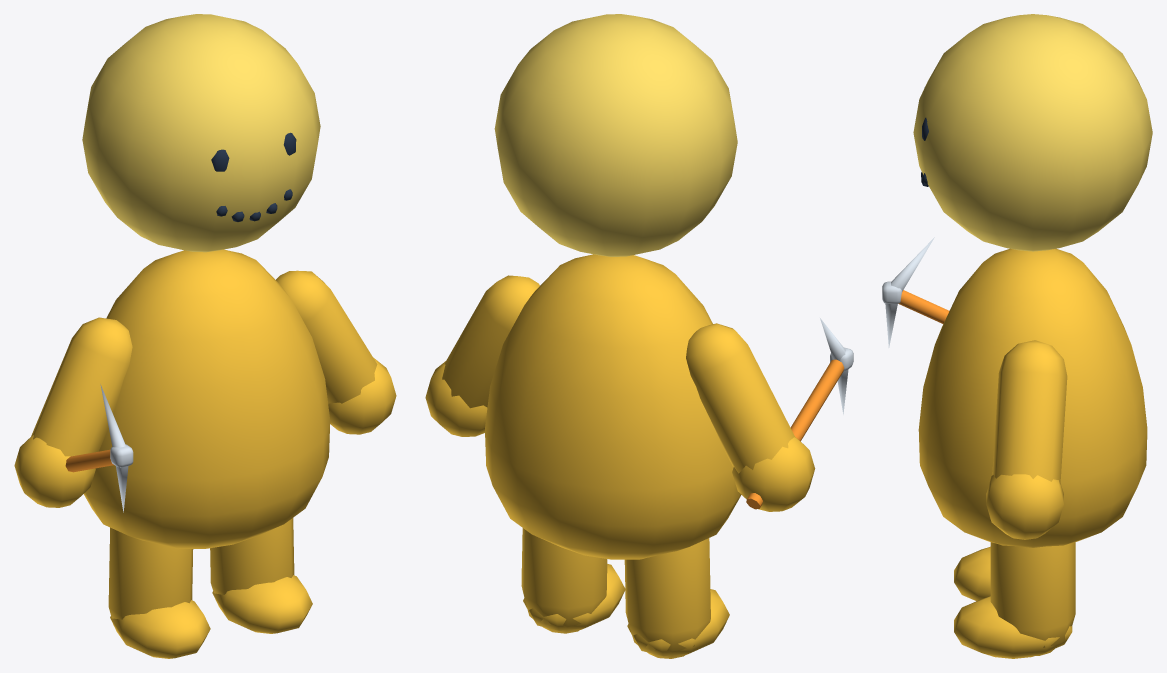
File: SmileyScrapper.fbx
3 renders of one model, left to right at view 1: azimuth 30°, elevation 25°; view 2: azimuth 150°, elevation 25°; view 3: azimuth 270°, elevation 25°, orthographic. The views are drawn at different scales.
Visible parts, largest first — view 1: Torso, Head, ArmR, LegR, ArmL, LegL; view 2: Torso, Head, ArmR, LegR, ArmL, LegL; view 3: Head, Torso, ArmL, LegL, ArmR, LegR.
Boxes of the visible parts, x1=… form: Torso: x1=84, y1=249, x2=330, y2=548; Head: x1=82, y1=14, x2=320, y2=252; ArmR: x1=14, y1=317, x2=133, y2=512; LegR: x1=108, y1=527, x2=210, y2=658; ArmL: x1=276, y1=270, x2=396, y2=434; LegL: x1=210, y1=518, x2=312, y2=633; Torso: x1=485, y1=254, x2=741, y2=559; Head: x1=494, y1=14, x2=737, y2=256; ArmR: x1=686, y1=318, x2=853, y2=511; LegR: x1=624, y1=538, x2=729, y2=658; ArmL: x1=425, y1=275, x2=539, y2=436; LegL: x1=521, y1=528, x2=625, y2=633; Head: x1=913, y1=14, x2=1152, y2=251; Torso: x1=918, y1=248, x2=1147, y2=547; ArmL: x1=986, y1=340, x2=1067, y2=539; LegL: x1=954, y1=542, x2=1075, y2=658; ArmR: x1=882, y1=237, x2=949, y2=347; LegR: x1=954, y1=546, x2=990, y2=600.
Size of the model in its own units: 0.4628 by 0.7214 by 0.293.
